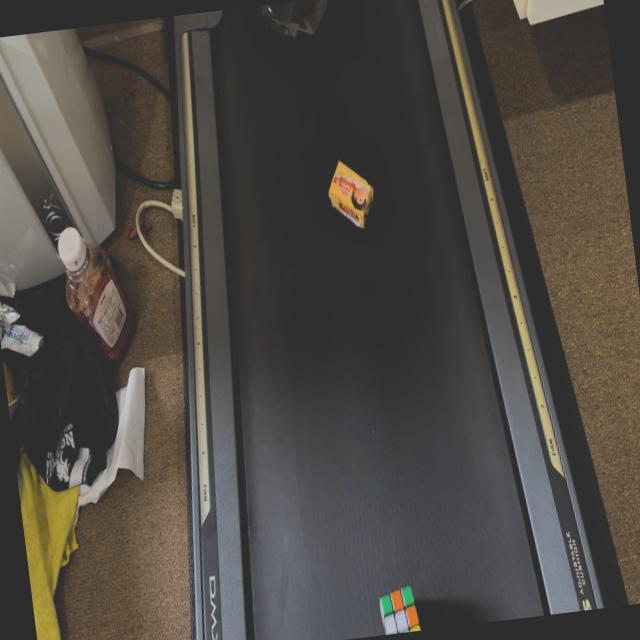Trash: (324, 152, 381, 230), (372, 574, 436, 636)
